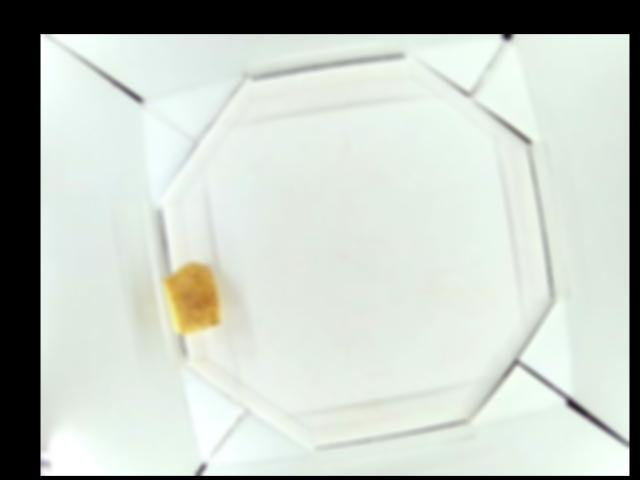Potato: (165, 261, 222, 334)
